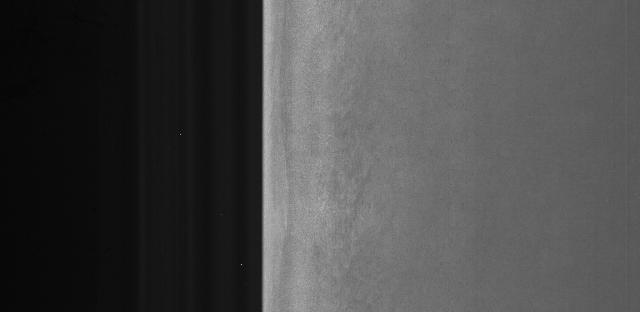silk_spot: (311, 82, 387, 252)
